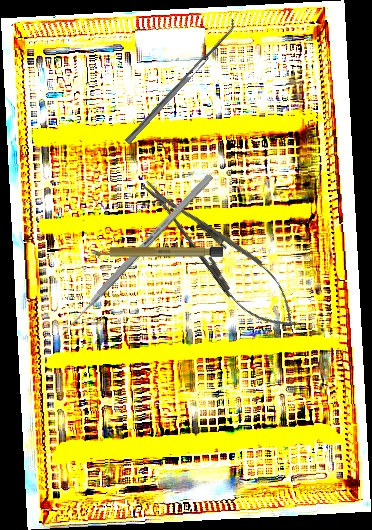Needle Holder: (127, 163, 313, 346)
Pusher: (55, 172, 214, 342)
Scalpel Handle: (91, 246, 223, 257)
Spatula Surgical: (120, 17, 240, 145)
